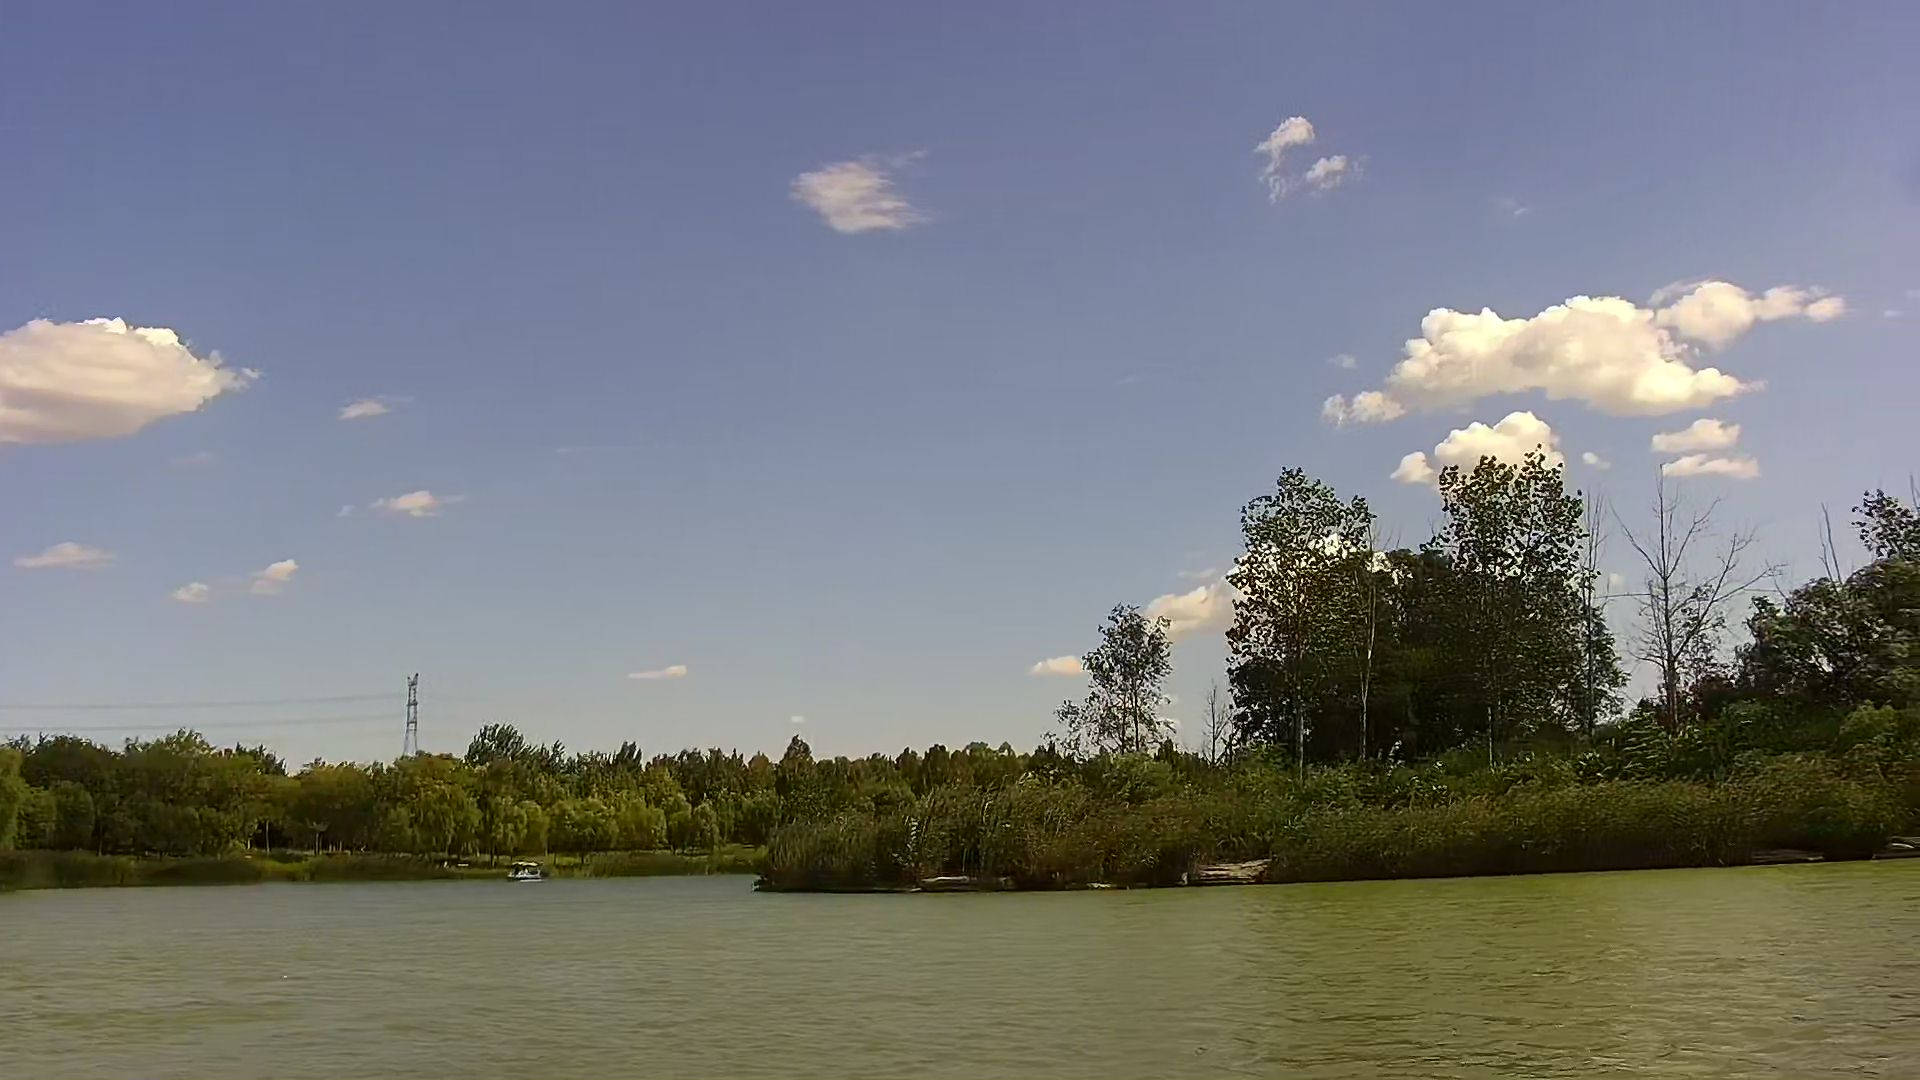boat: (516, 858, 539, 884)
rock: (1182, 861, 1271, 887), (913, 873, 998, 893)
